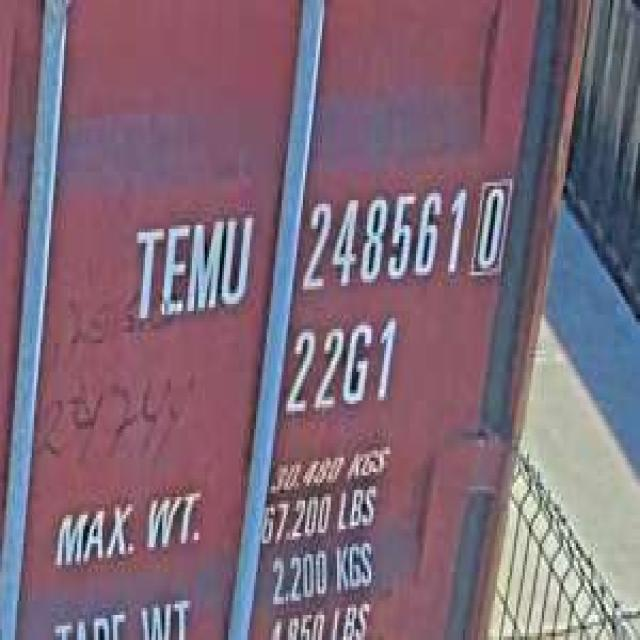dv: (469, 168, 514, 283)
owner: (126, 200, 254, 329)
serial: (299, 175, 467, 297)
size: (282, 311, 403, 422)
